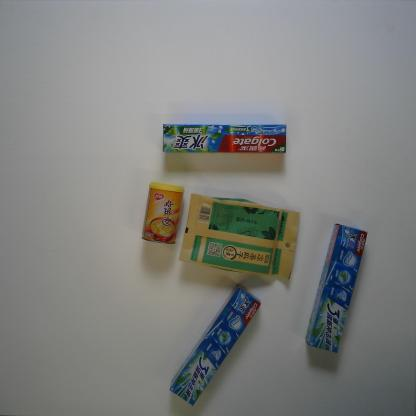Canned Food: (141, 181, 185, 244)
Dried Food: (179, 192, 301, 281)
Personal Hygiene: (169, 284, 261, 406), (304, 223, 368, 353), (162, 124, 287, 154)
